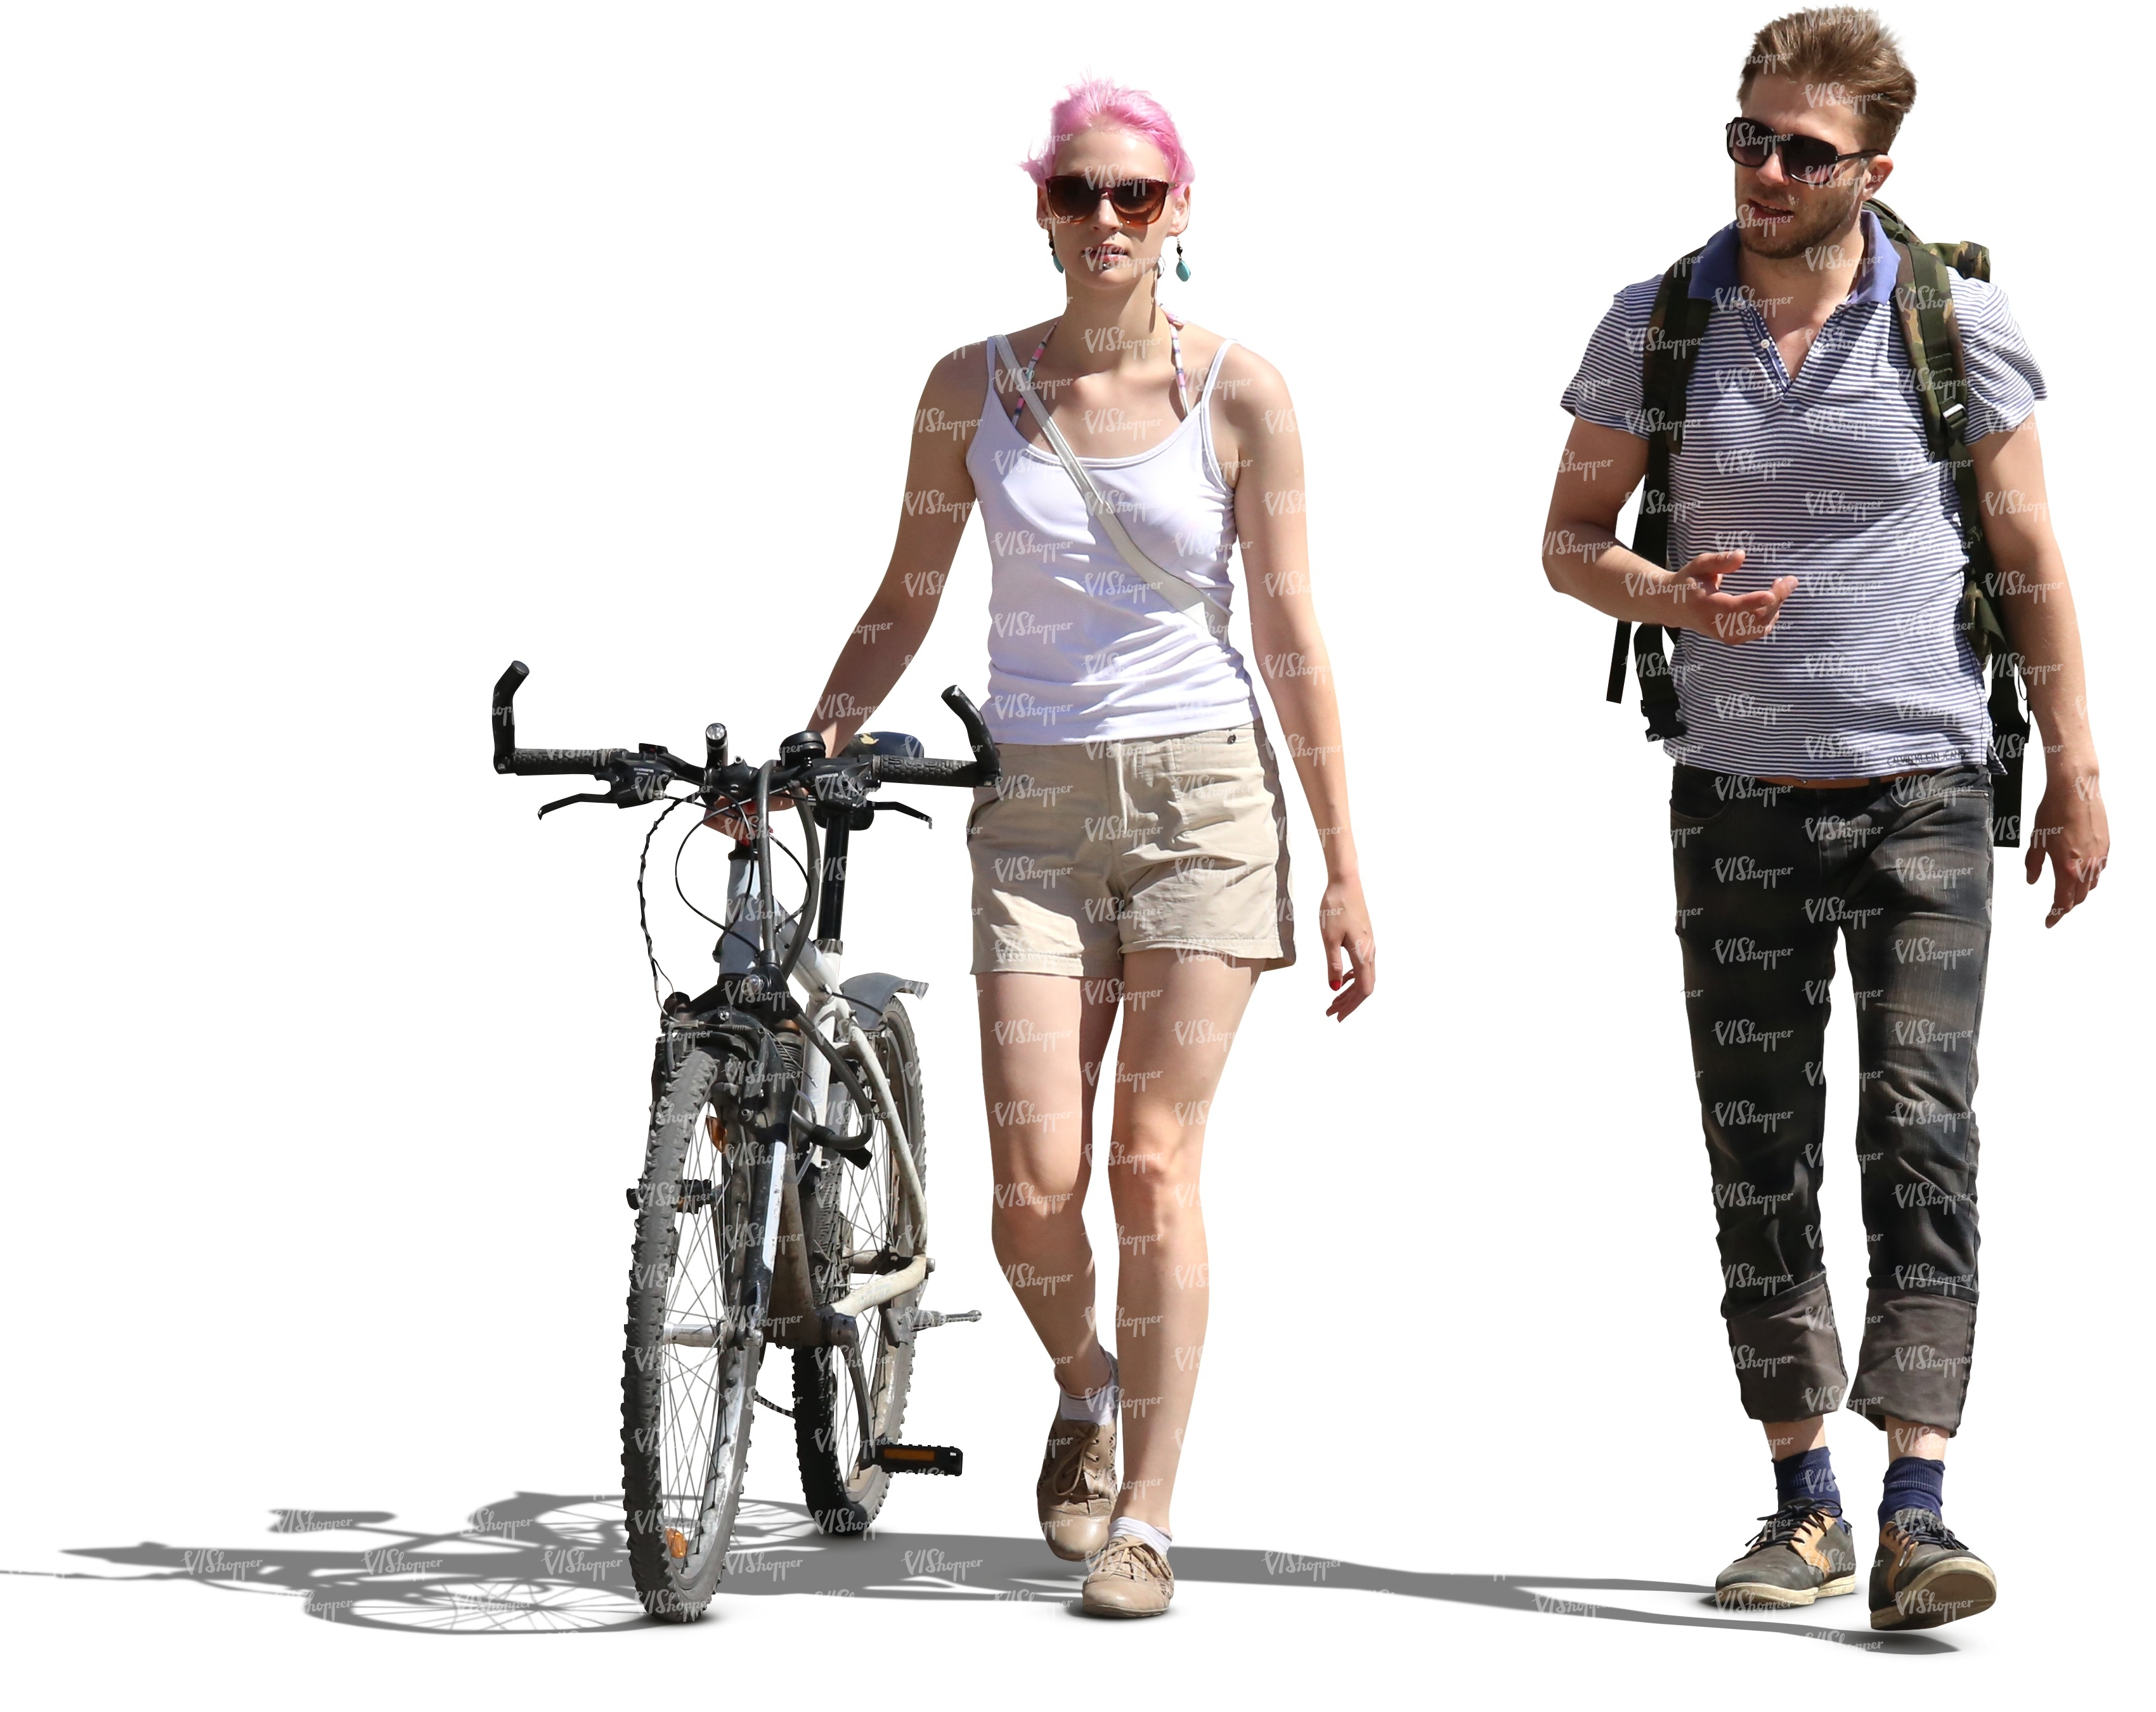NOTSAFE: (1629, 5, 2014, 782), (940, 74, 1272, 909)
